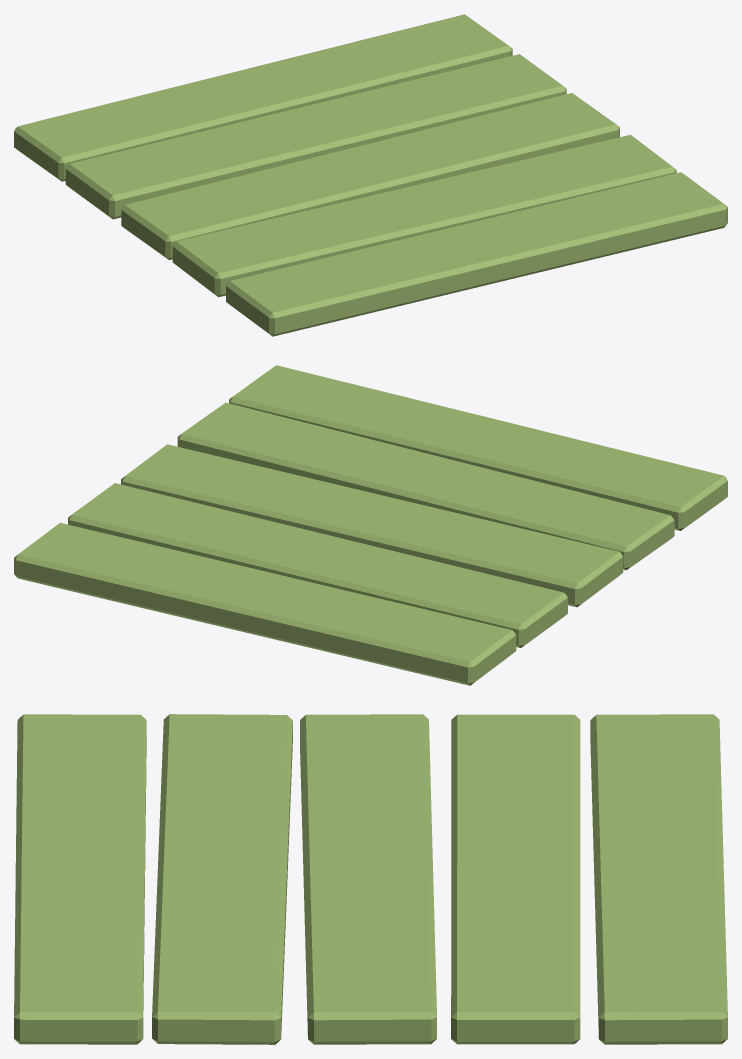
File: ground_wood.glb
3 views of the same model, one above another, from view 1: azimuth 30°, elevation 25°; view 2: azimuth 150°, elevation 25°; view 3: azimuth 270°, elevation 25° (orthographic). The views are drawn at different scales.
Visible parts, largest first — view 1: ground_wood_mesh.002, ground_wood_mesh.003, ground_wood_mesh, ground_wood_mesh.004, ground_wood_mesh.001; view 2: ground_wood_mesh.004, ground_wood_mesh, ground_wood_mesh.001, ground_wood_mesh.003, ground_wood_mesh.002; view 3: ground_wood_mesh.001, ground_wood_mesh.004, ground_wood_mesh, ground_wood_mesh.002, ground_wood_mesh.003.
Part boxes in pixels (x1=…): ground_wood_mesh.002: x1=226, y1=172, x2=727, y2=336; ground_wood_mesh.003: x1=65, y1=54, x2=566, y2=219; ground_wood_mesh: x1=121, y1=93, x2=619, y2=260; ground_wood_mesh.004: x1=14, y1=14, x2=512, y2=181; ground_wood_mesh.001: x1=172, y1=134, x2=676, y2=297; ground_wood_mesh.004: x1=14, y1=522, x2=516, y2=685; ground_wood_mesh: x1=121, y1=444, x2=623, y2=607; ground_wood_mesh.001: x1=177, y1=402, x2=674, y2=570; ground_wood_mesh.003: x1=68, y1=483, x2=567, y2=647; ground_wood_mesh.002: x1=229, y1=365, x2=727, y2=530; ground_wood_mesh.001: x1=152, y1=714, x2=292, y2=1044; ground_wood_mesh.004: x1=590, y1=714, x2=727, y2=1044; ground_wood_mesh: x1=300, y1=714, x2=436, y2=1044; ground_wood_mesh.002: x1=14, y1=714, x2=146, y2=1044; ground_wood_mesh.003: x1=451, y1=714, x2=580, y2=1044.
Bounding box in the file's own units: 1 × 0.05 × 0.9974.
